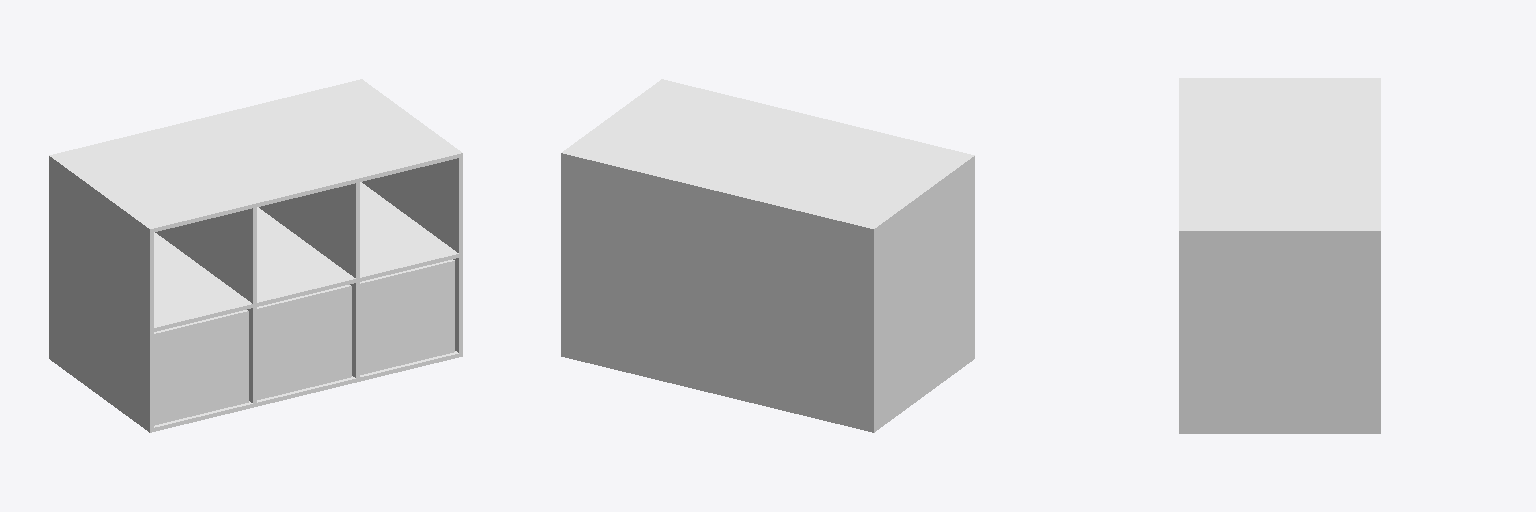
Rendered from colorbox.obj.
The picture shows the model from 3 angles: view 1: azimuth 30°, elevation 25°; view 2: azimuth 150°, elevation 25°; view 3: azimuth 270°, elevation 25°; orthographic projection.
Visible parts, largest first — view 1: object 1; view 2: object 1; view 3: object 1.
Boxes of the visible parts, x1,y1,x2,y2 form: object 1: [49, 79, 462, 432]; object 1: [561, 79, 974, 432]; object 1: [1179, 78, 1380, 433].
Bounding box in the file's own units: 16.1 × 10 × 9.